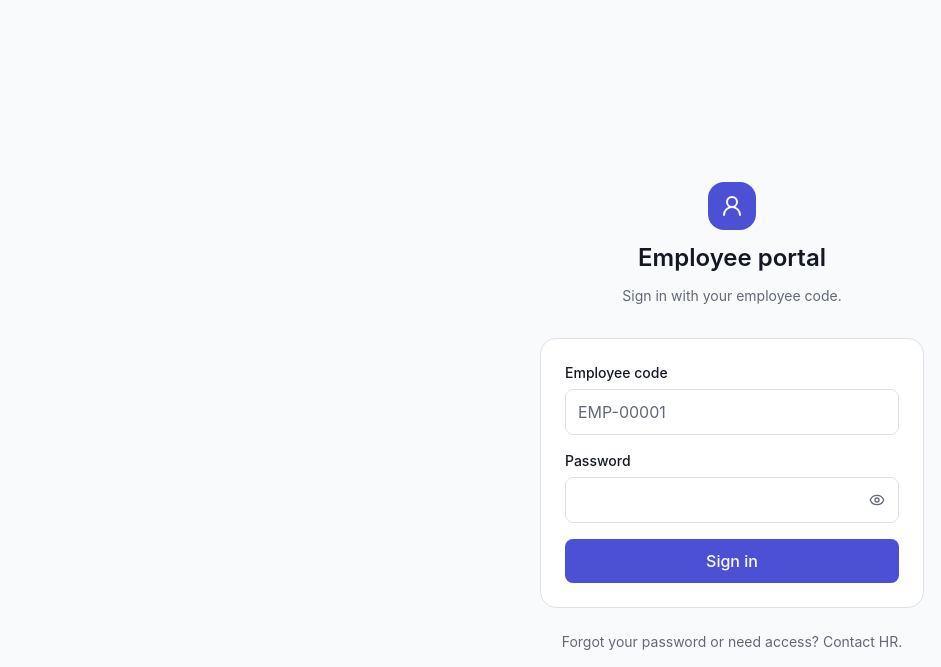
sign-in flow with real guards › returns to ?next after signing in (not always /profile)
Type "ADMIN-001" into the field labelled "Employee code". click: point(732, 412)
box: [565,389,899,435]
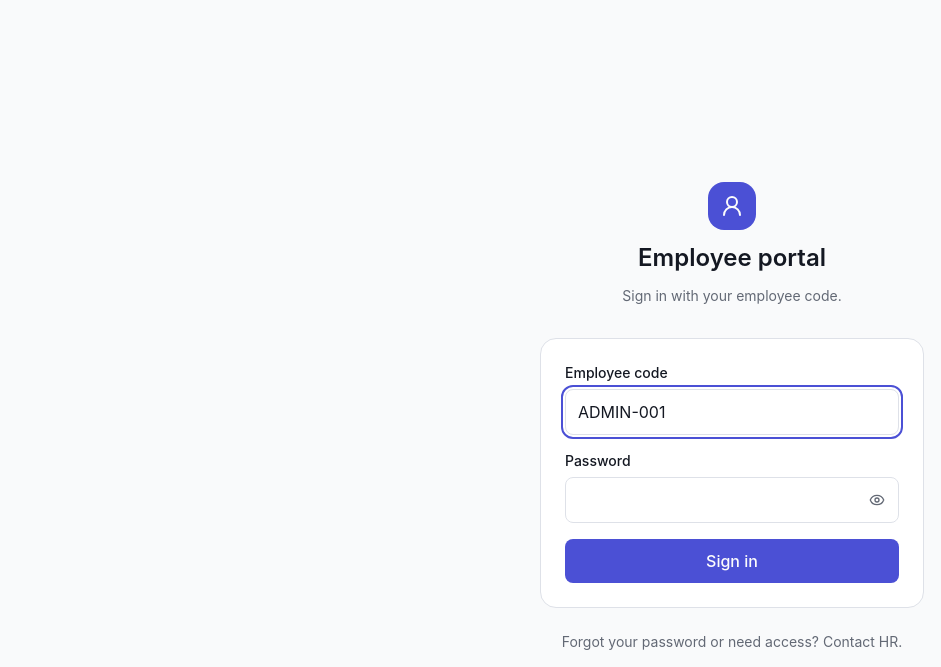
Type "demo1234" into the password field labelled "Password". click: point(732, 500)
box: [565,477,899,523]
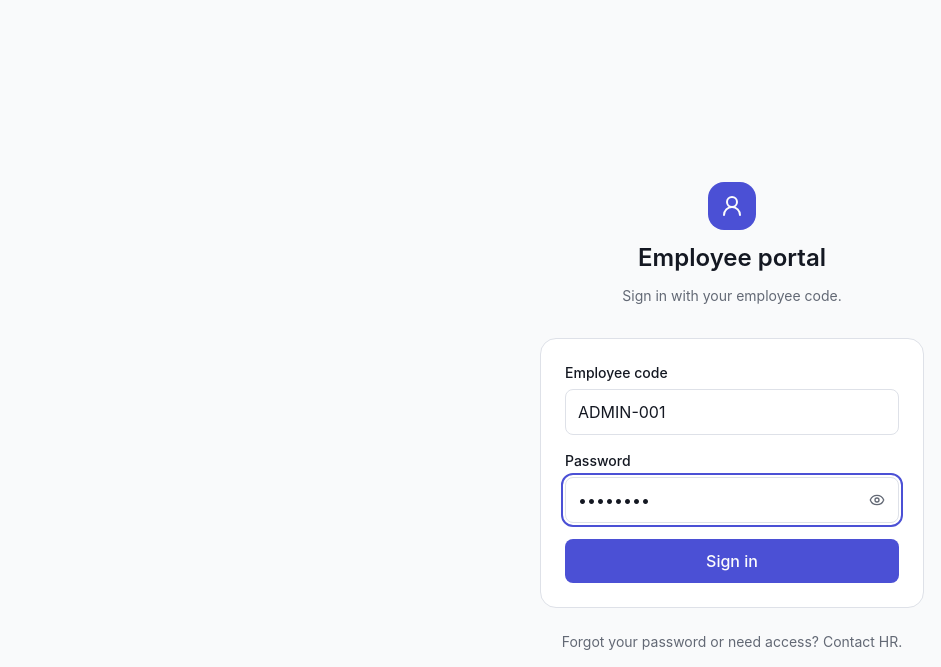
Click the button "Sign in". click: point(732, 561)
box: [565,539,899,583]
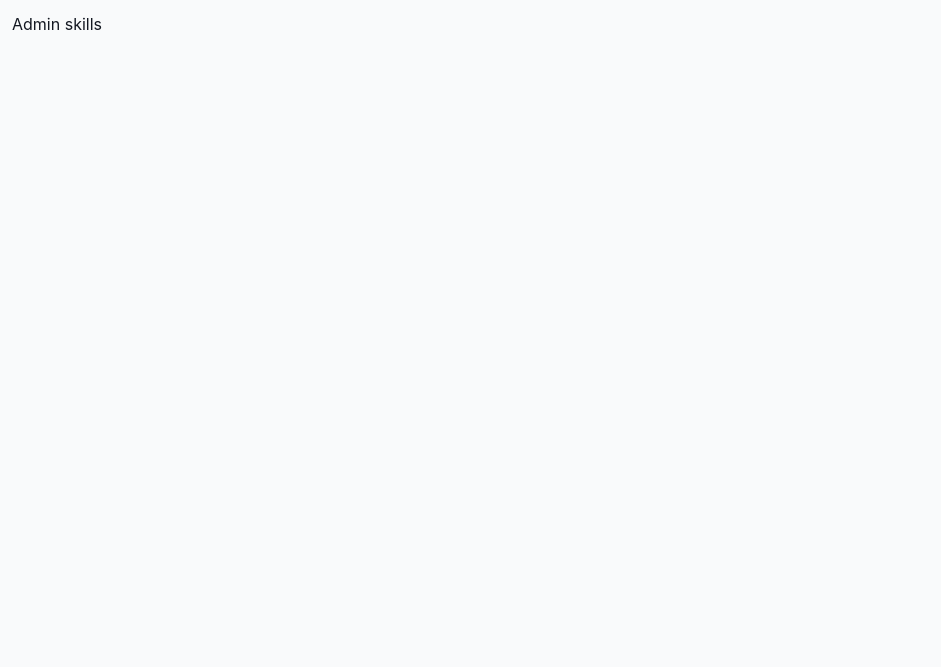
expect the text "Admin skills" is shown: met, box [12,14,102,34]
